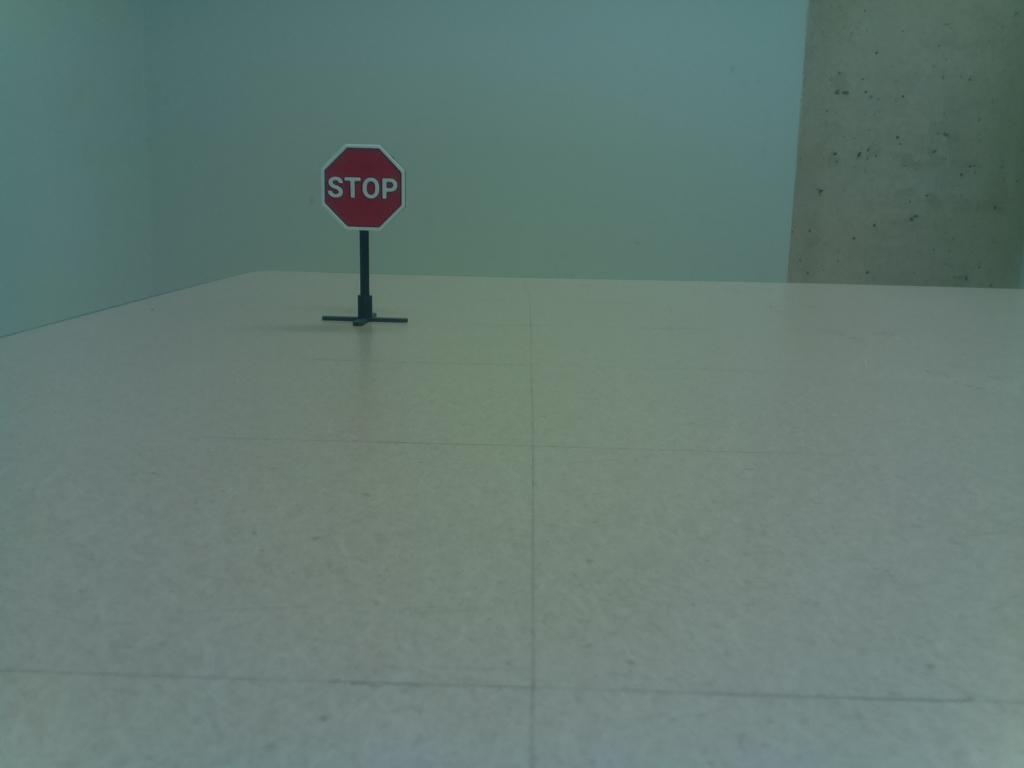sign_stop: (316, 141, 413, 237)
